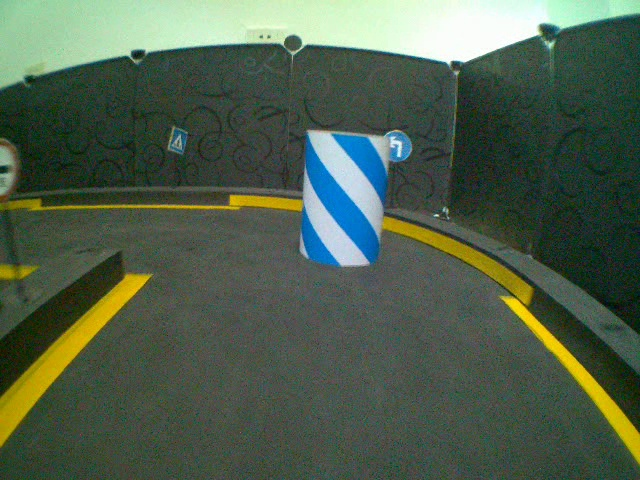unicorn: (296, 128, 390, 269)
